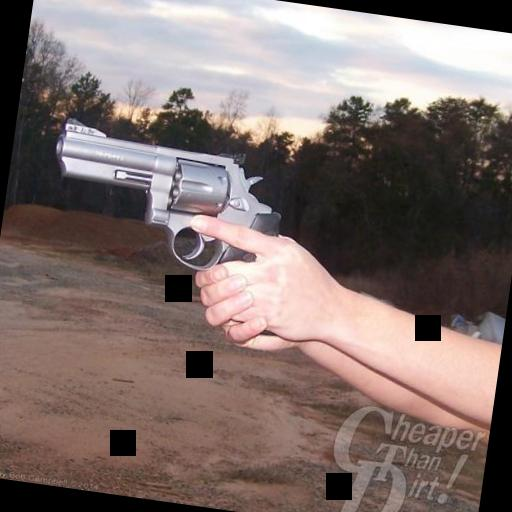Handgun: (22, 110, 308, 341)
